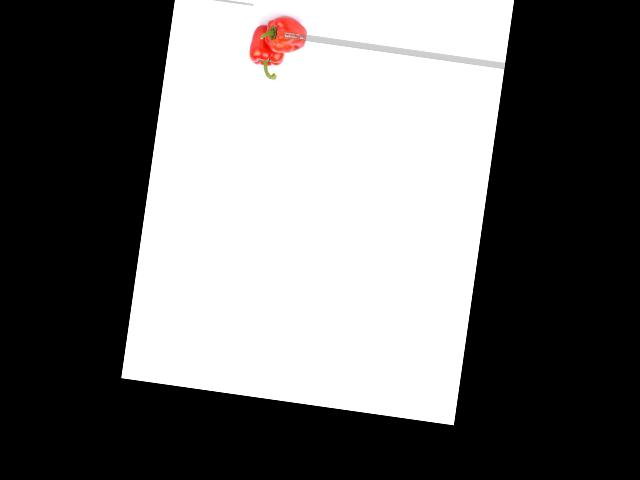bell_pepper: (259, 14, 314, 60)
